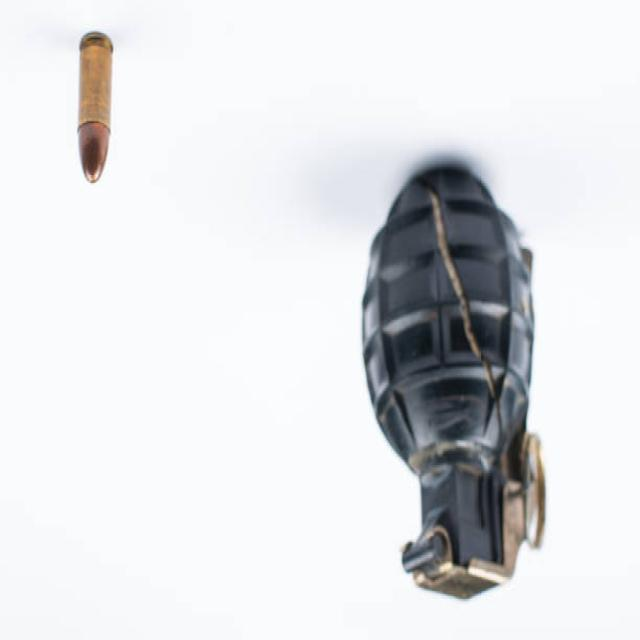grenade: (356, 159, 558, 608)
